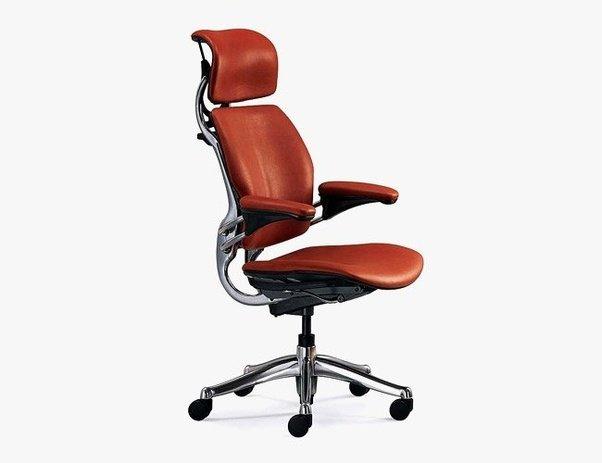chairs: (183, 22, 430, 440)
